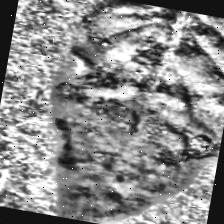disease: (33, 0, 224, 224)
